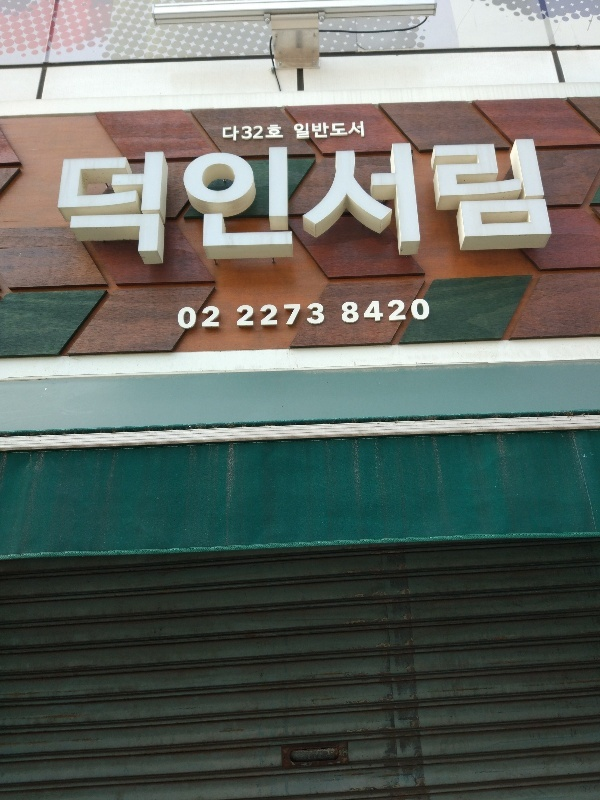text: (65, 133, 80, 272), (81, 133, 96, 272), (97, 133, 112, 272), (113, 133, 128, 272), (129, 133, 144, 272), (145, 133, 160, 272), (161, 133, 176, 272), (177, 133, 192, 272), (193, 133, 208, 272), (209, 133, 224, 272), (225, 133, 240, 272), (241, 133, 256, 272), (257, 133, 272, 272), (273, 133, 288, 272), (289, 133, 304, 272), (305, 133, 320, 272), (321, 133, 336, 272), (337, 133, 352, 272), (353, 133, 368, 272), (369, 133, 384, 272), (385, 133, 400, 272), (401, 133, 416, 272), (417, 133, 432, 272), (433, 133, 448, 272), (449, 133, 464, 272), (465, 133, 480, 272), (481, 133, 496, 272), (497, 133, 512, 272), (513, 133, 528, 272), (529, 133, 544, 272), (545, 133, 559, 272), (193, 299, 208, 335), (209, 299, 224, 335), (225, 299, 240, 335), (241, 299, 256, 335), (257, 299, 272, 335), (273, 299, 288, 335), (289, 299, 304, 335), (305, 299, 320, 335), (321, 299, 336, 335), (337, 299, 352, 335), (353, 299, 368, 335), (369, 299, 384, 335), (385, 299, 400, 335), (401, 299, 416, 335), (178, 299, 192, 335), (417, 299, 431, 335), (61, 133, 64, 272), (305, 121, 320, 142), (321, 121, 336, 142), (337, 121, 352, 142), (353, 121, 366, 142), (225, 125, 240, 142), (241, 125, 256, 142), (257, 125, 272, 142), (294, 121, 304, 142), (273, 125, 284, 142), (223, 125, 224, 142)
